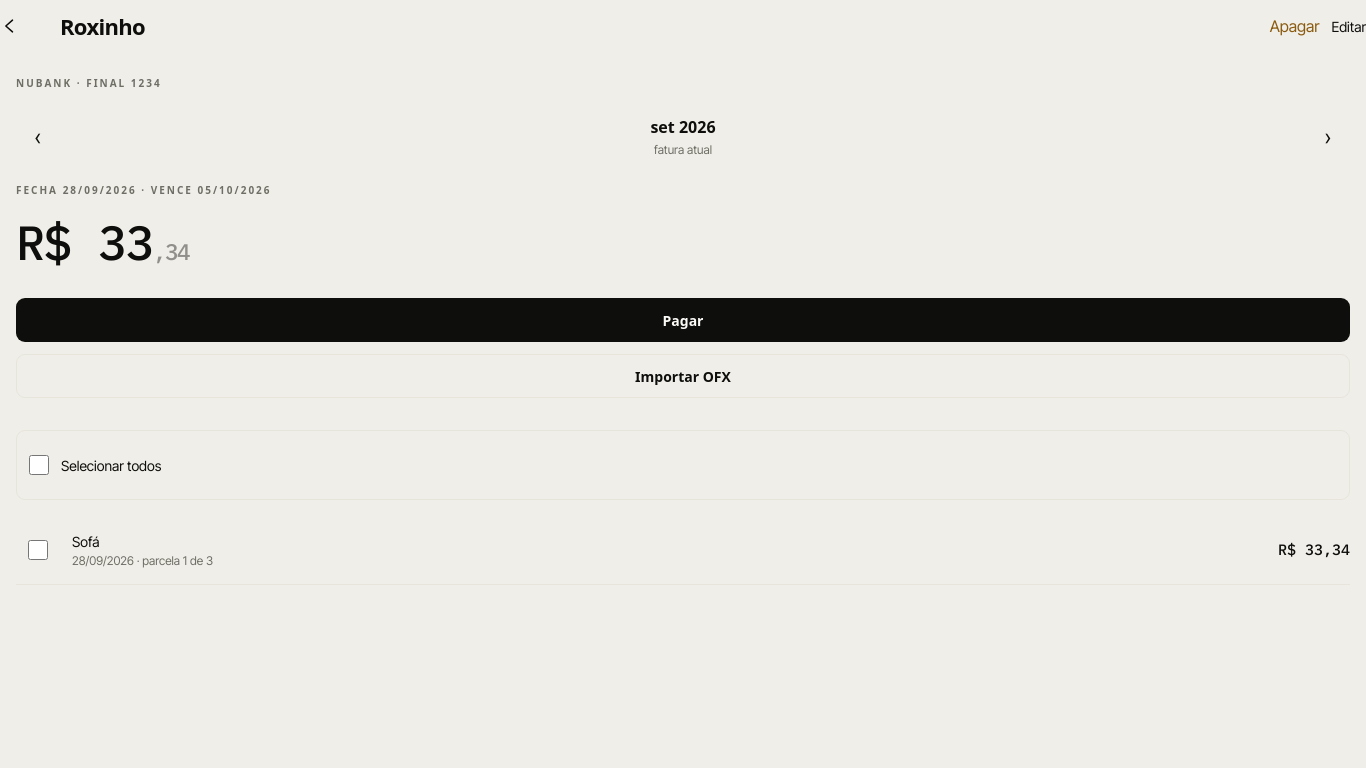
Test: CartaoDetalhe › abre confirmação ao clicar em 'Excluir selecionados'
The image size is (1366, 768).
Click the checkbox named "Selecionar Sofá" at (38, 550), box [28,540,48,560]
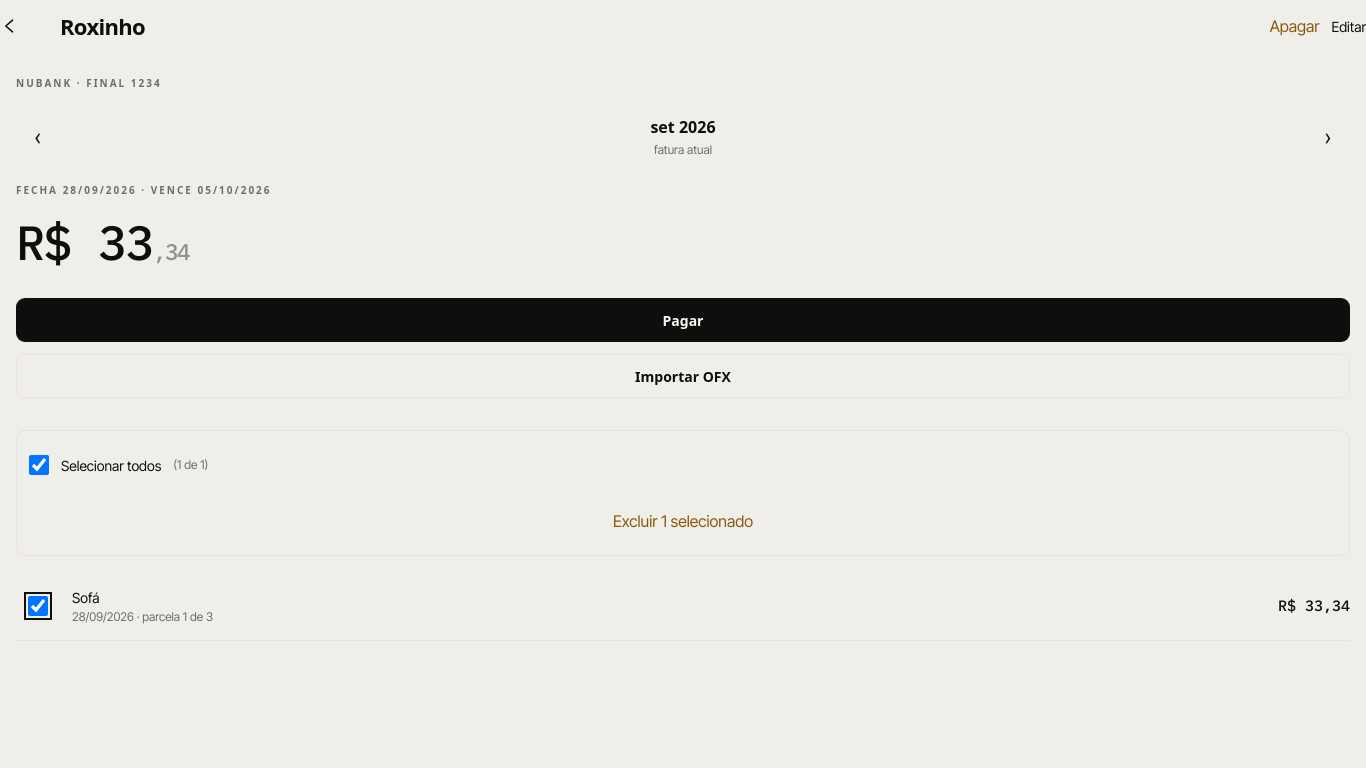
Click the button "Excluir 1 selecionado" at (683, 521), box [29,499,1337,543]
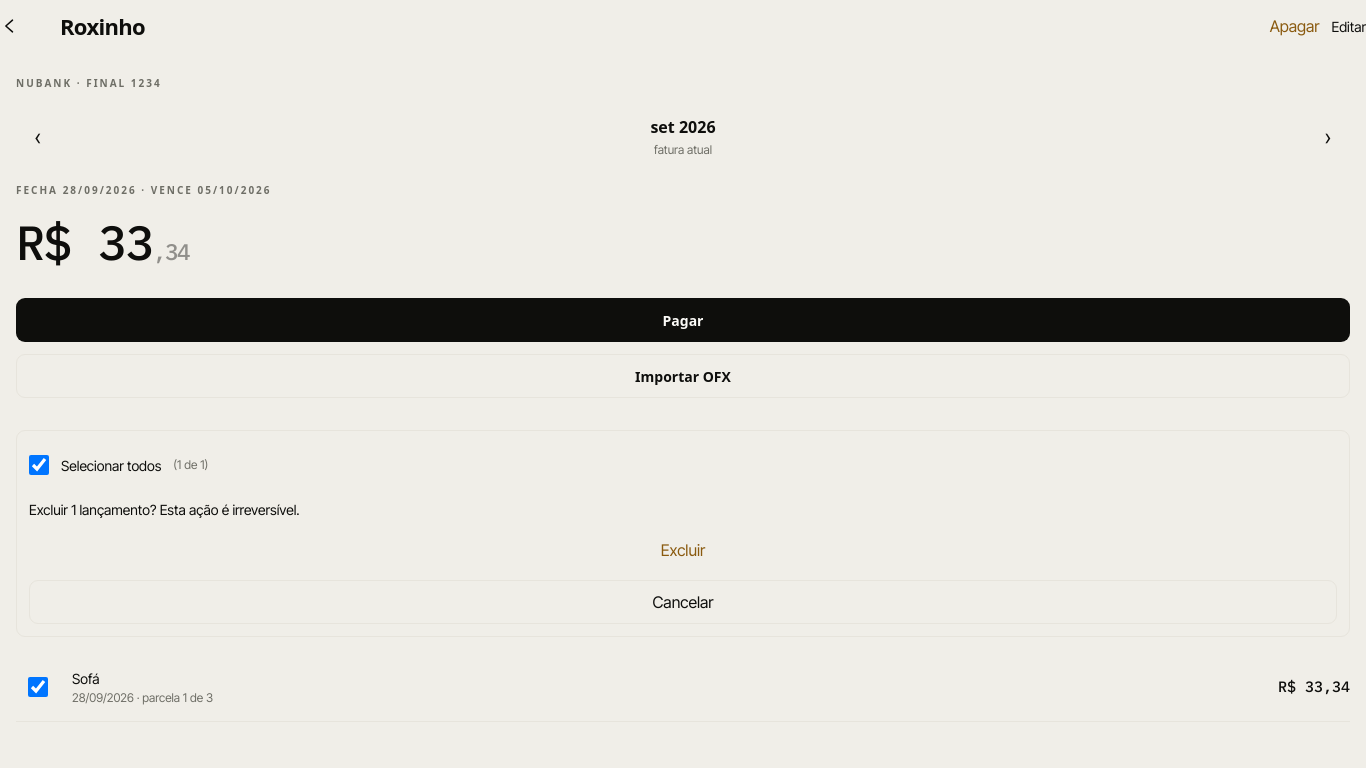
Now the text "Excluir 1 lançamento? Esta ação é irreversível." is shown, box [29,501,300,518]
